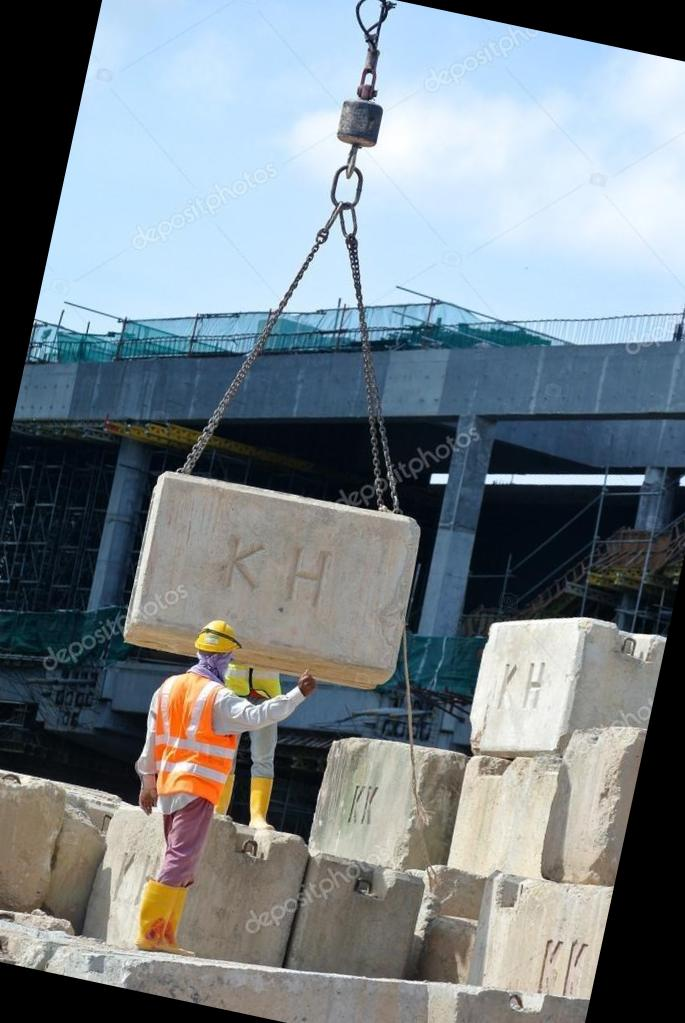Vest: (134, 656, 260, 812)
